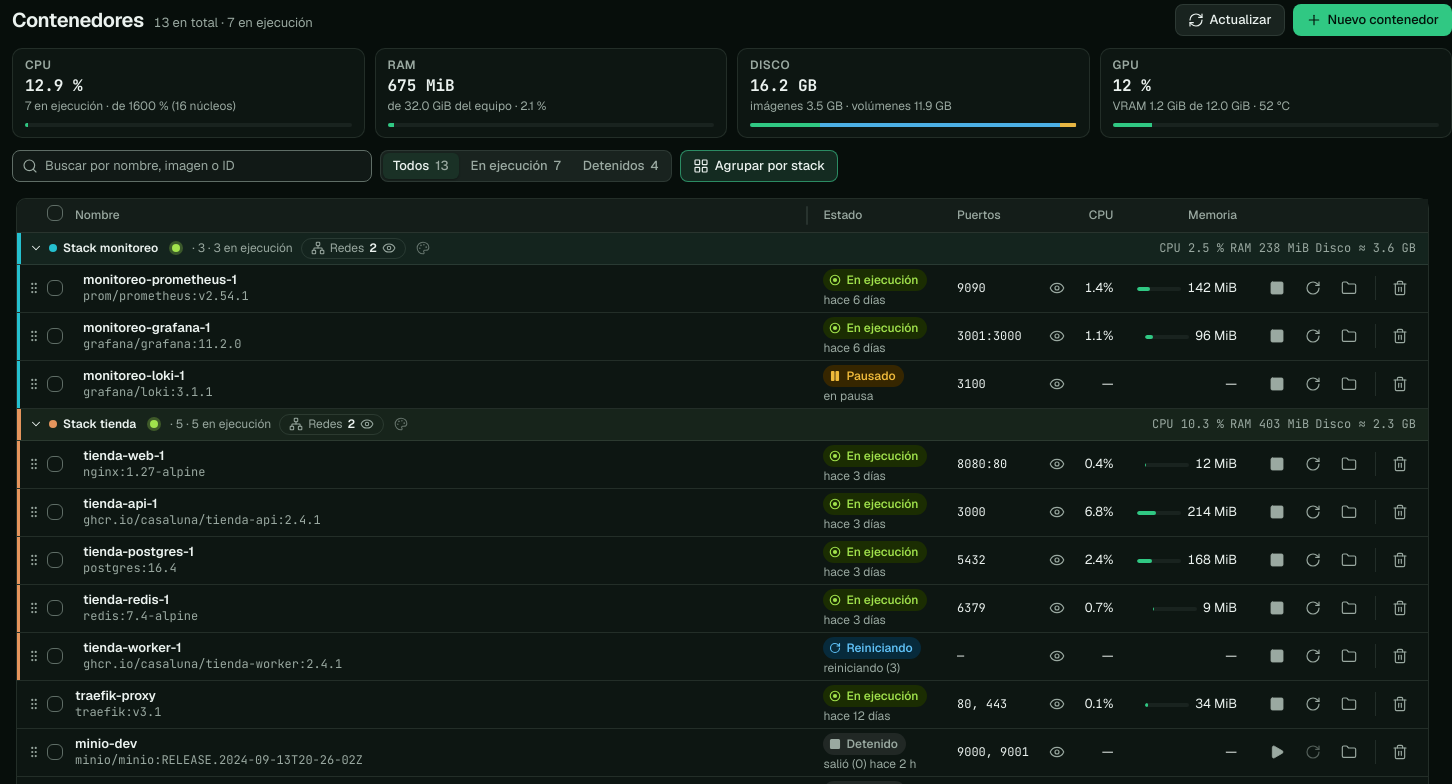
Test: ContainersPage › selección múltiple con barra masiva y «seleccionar todos»
The image size is (1452, 784).
Expected: the link "tienda-api-1" is shown, [83,495,158,512]
Click the checkbox named "Seleccionar tienda-web-1".
click(55, 464)  # box [47,456,63,472]
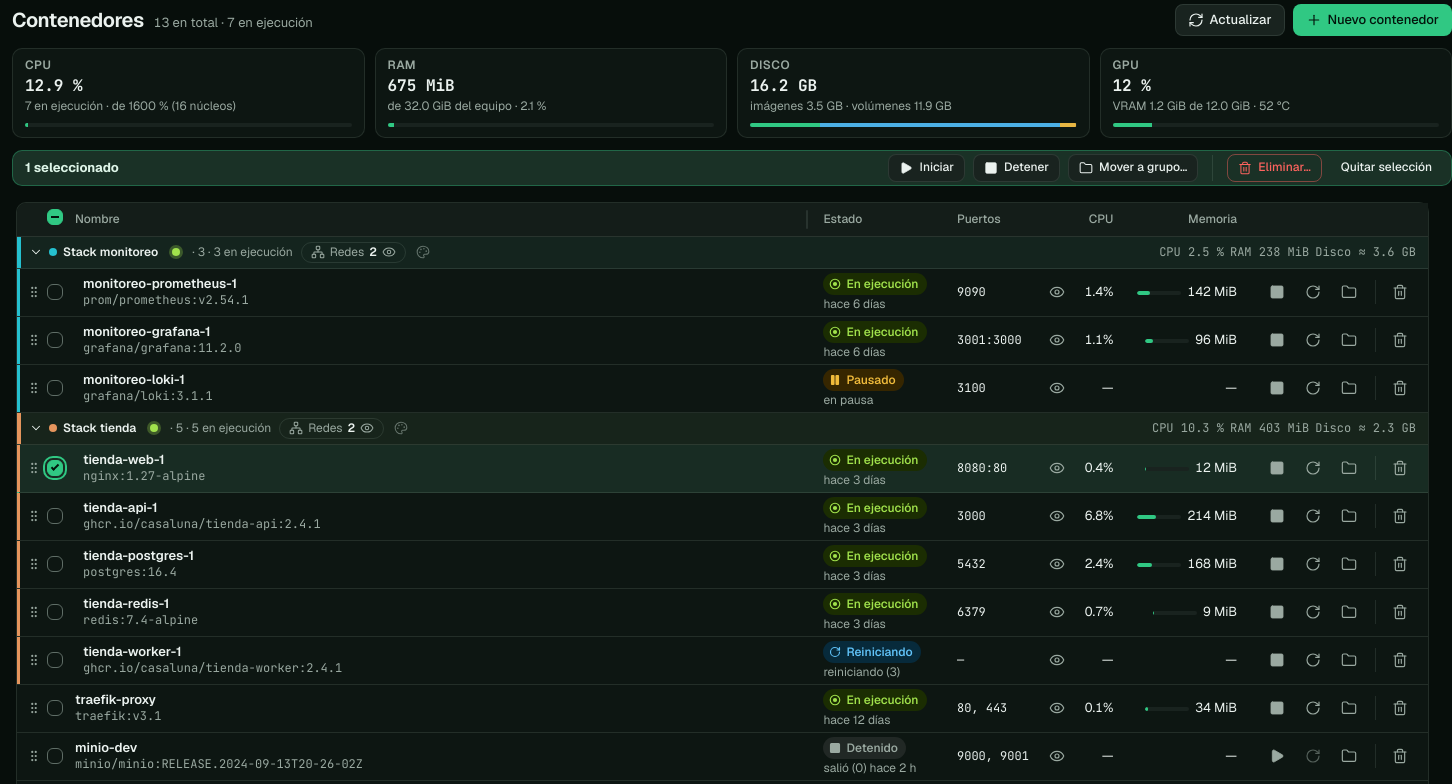
Result: the text "1 seleccionado" is shown at [25,158,119,177]
Click the button "Quitar selección".
click(1386, 168)  # box [1330,154,1443,182]
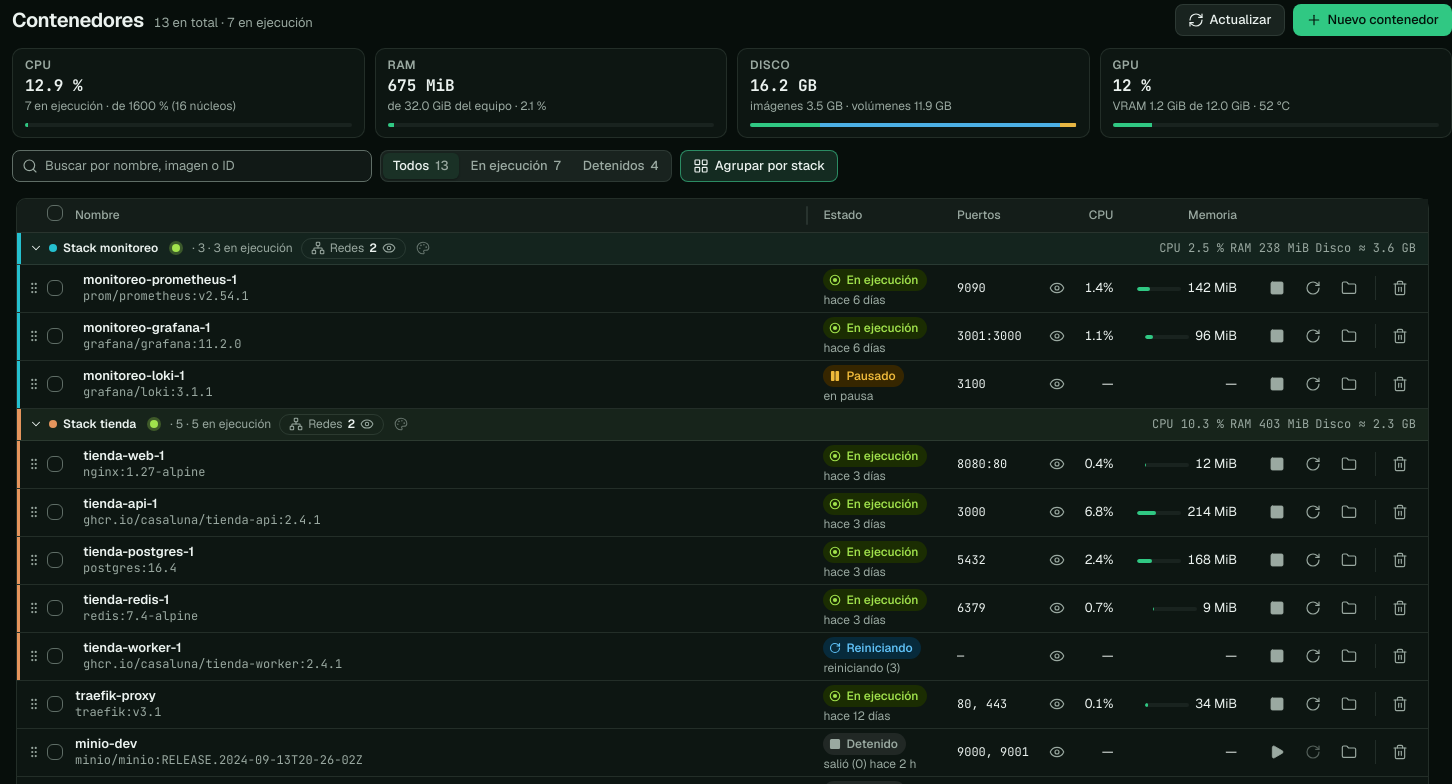
Click the checkbox named "Seleccionar todos".
click(55, 213)  # box [47,205,63,221]
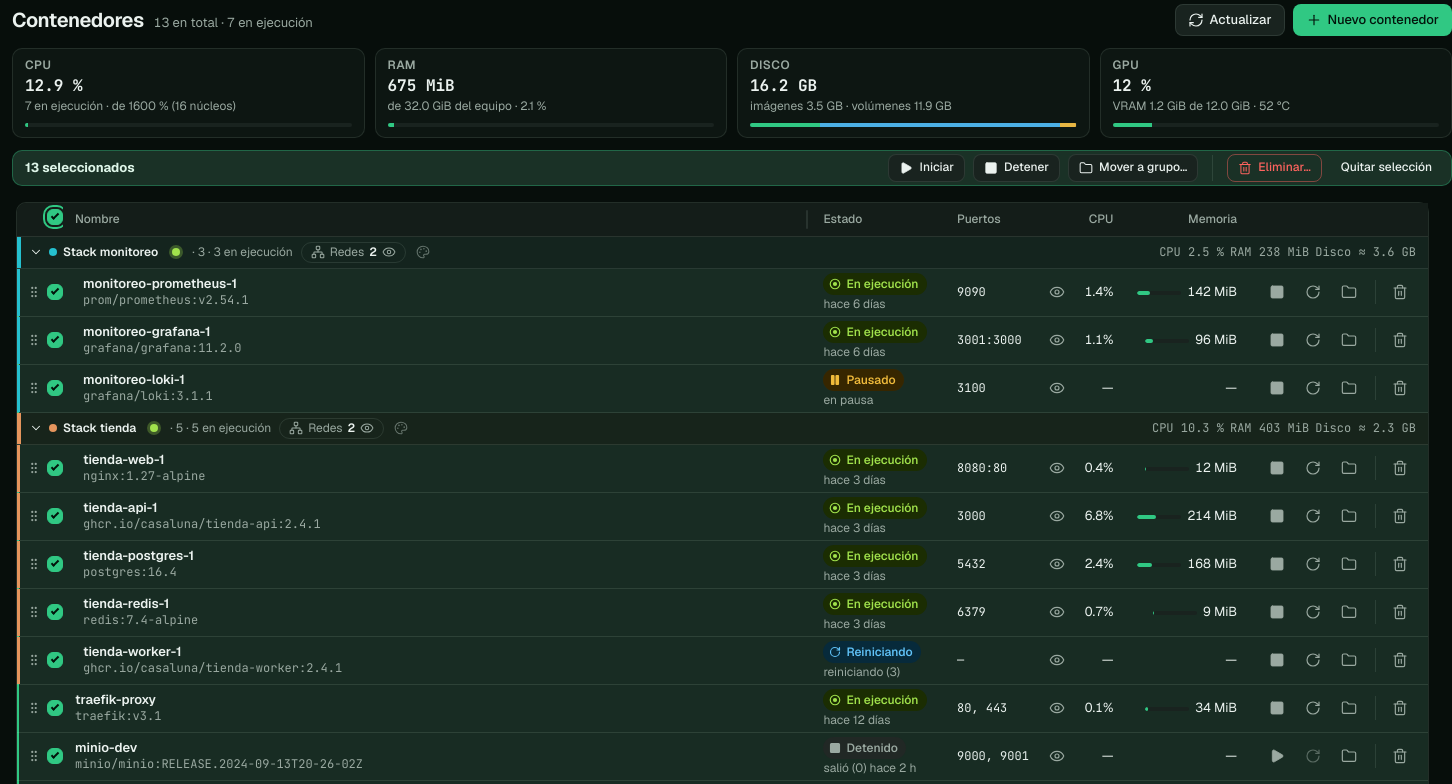
Result: the text "13 seleccionados" is shown at [25,158,134,177]
